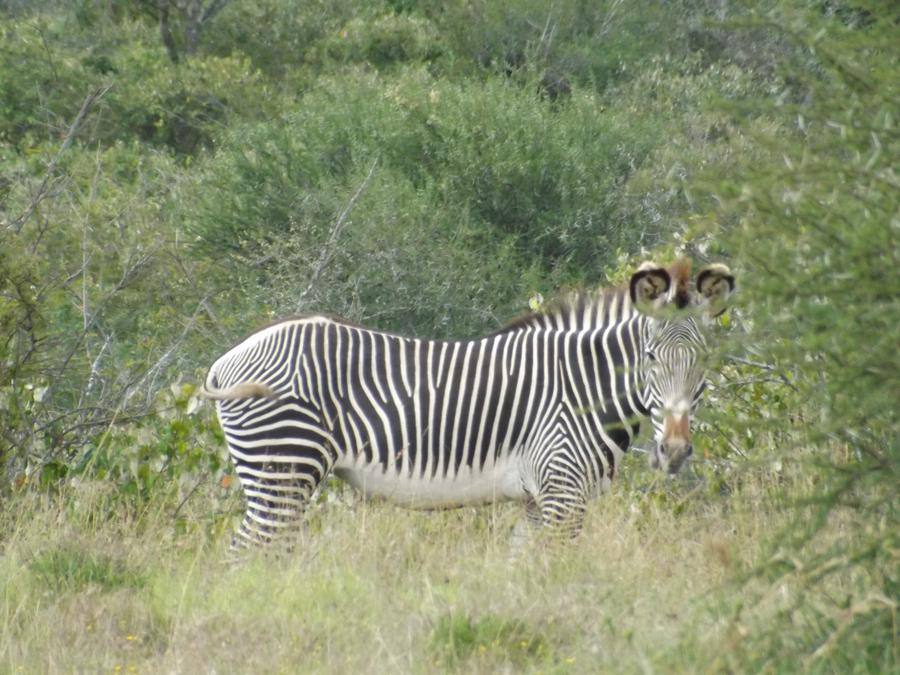zebra_grevys: (203, 310, 602, 495)
